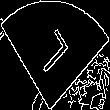L_SW: (34, 27, 76, 83)
